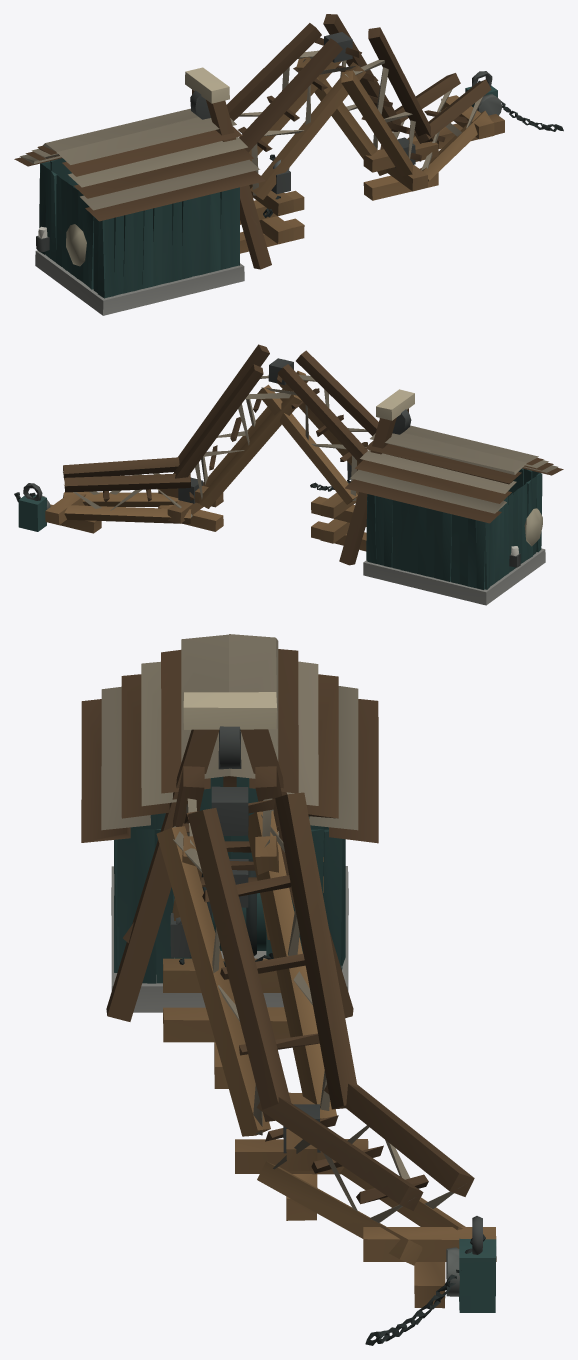
File: boom_crane_wreck_a_lod2.glb
The picture shows the model from 3 angles, top to bottom: view 1: azimuth 30°, elevation 25°; view 2: azimuth 150°, elevation 25°; view 3: azimuth 270°, elevation 25°; orthographic projection. The views are drawn at different scales.
Parts seen in each view (by area): view 1: Surface.001; view 2: Surface.001; view 3: Surface.001.
Part boxes in pixels (x1,y1,x2,y2): Surface.001: (14,14,563,315); Surface.001: (14,344,563,605); Surface.001: (81,634,496,1345).
Bounding box in the file's own units: 13.91 × 4.76 × 5.2.
